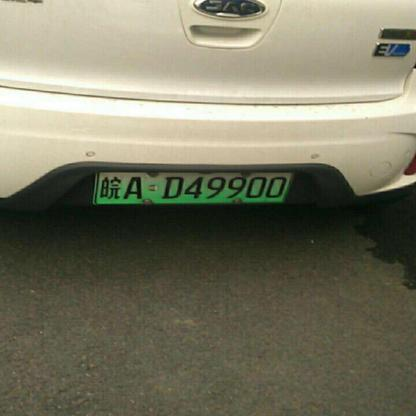lp: (96, 172, 291, 202)
